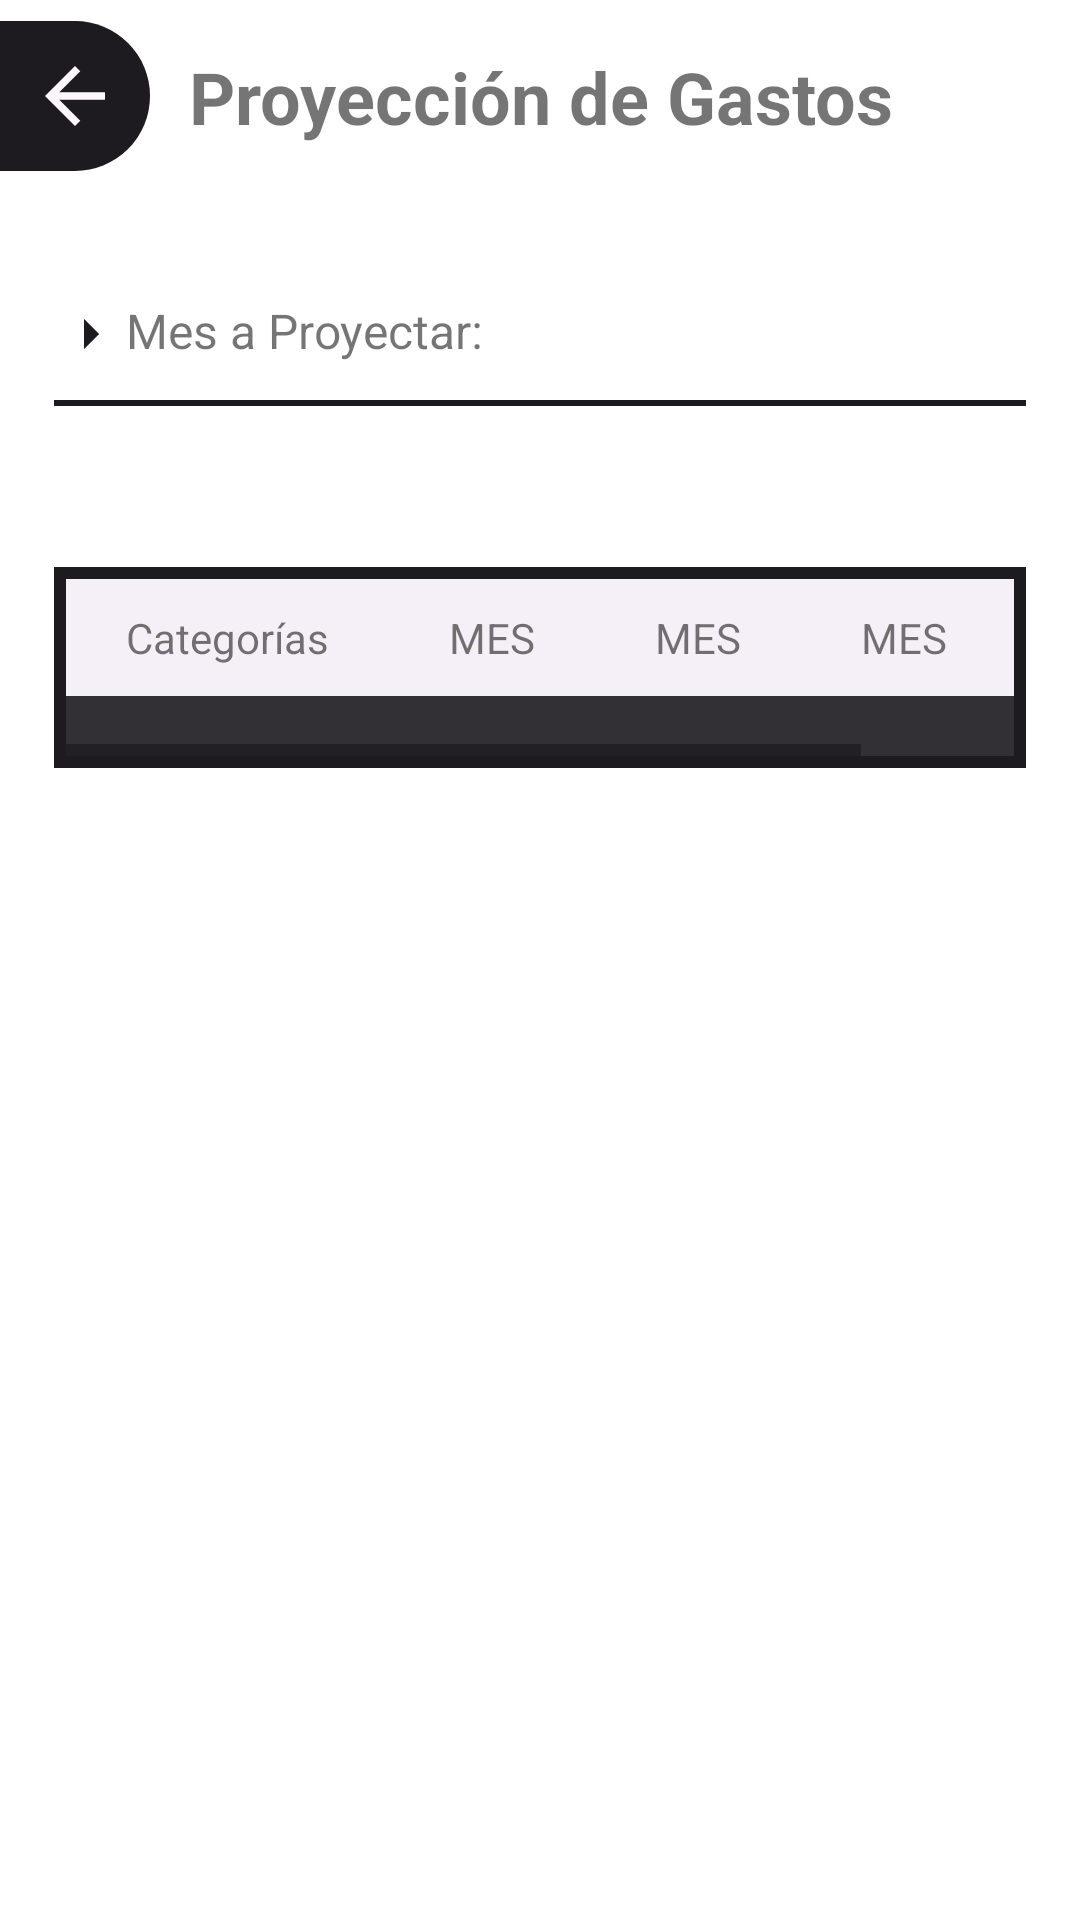

Where to tap for icons on this 1080*1920 app screen, as [x,y]:
Botón de Regresar a la pestaña principal: [75,96]
